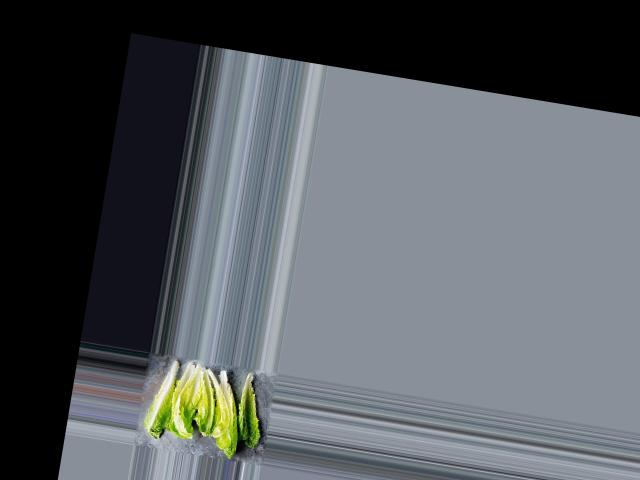lettuce: (231, 368, 268, 447)
